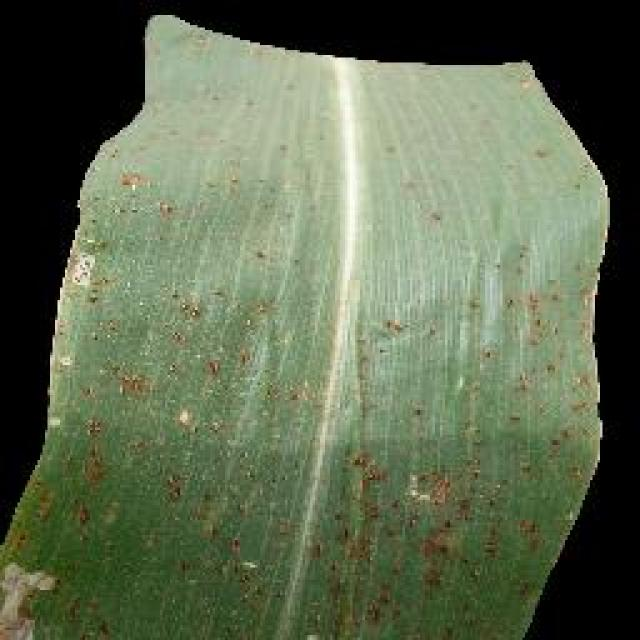Corn Common Rust: (150, 85, 583, 627)
